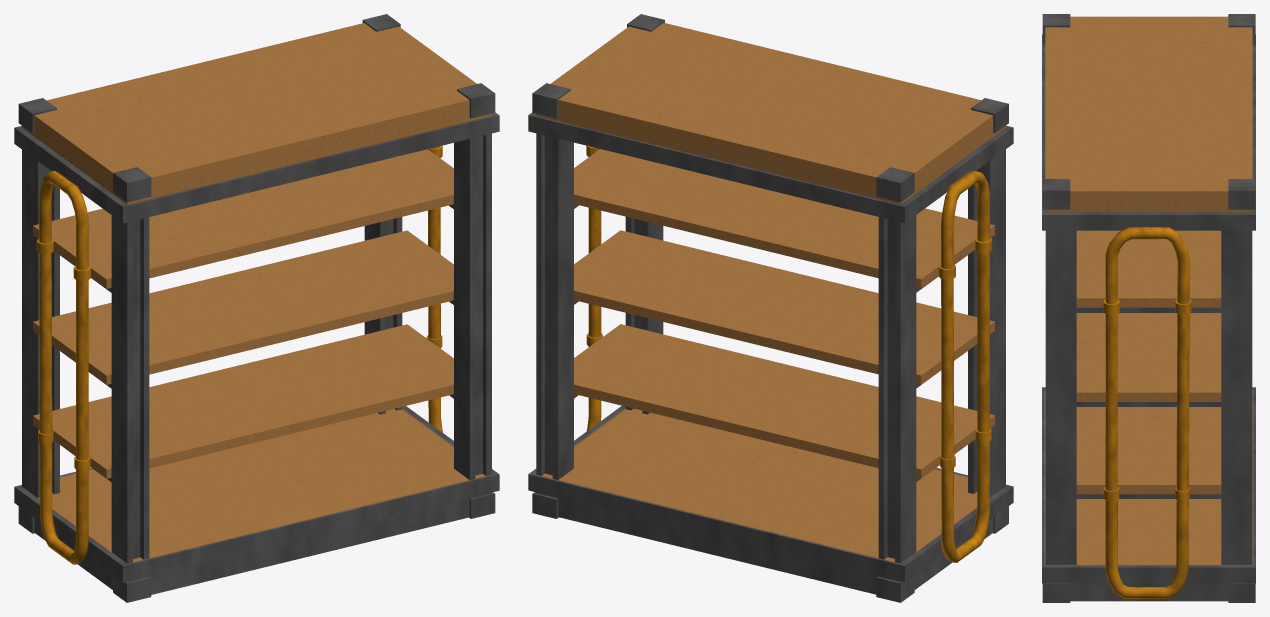
Rendered from IndustrialShelvesSmall.fbx.
3 renders of one model, left to right at view 1: azimuth 30°, elevation 25°; view 2: azimuth 150°, elevation 25°; view 3: azimuth 270°, elevation 25°, orthographic.
Visible parts, largest first — view 1: IndustrialShelvesShort; view 2: IndustrialShelvesShort; view 3: IndustrialShelvesShort.
Boxes of the visible parts, x1,y1,x2,y2 form: IndustrialShelvesShort: [14, 14, 499, 602]; IndustrialShelvesShort: [528, 14, 1013, 602]; IndustrialShelvesShort: [1042, 14, 1255, 602].
Size of the model in its own units: 443 by 440 by 207.
Materials: 1 (1 with a texture image).
